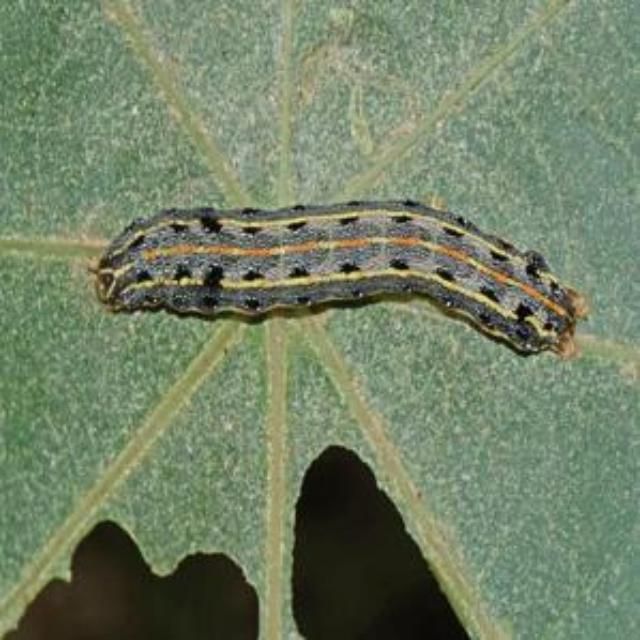Tobacco cutworm: (64, 142, 602, 406)
